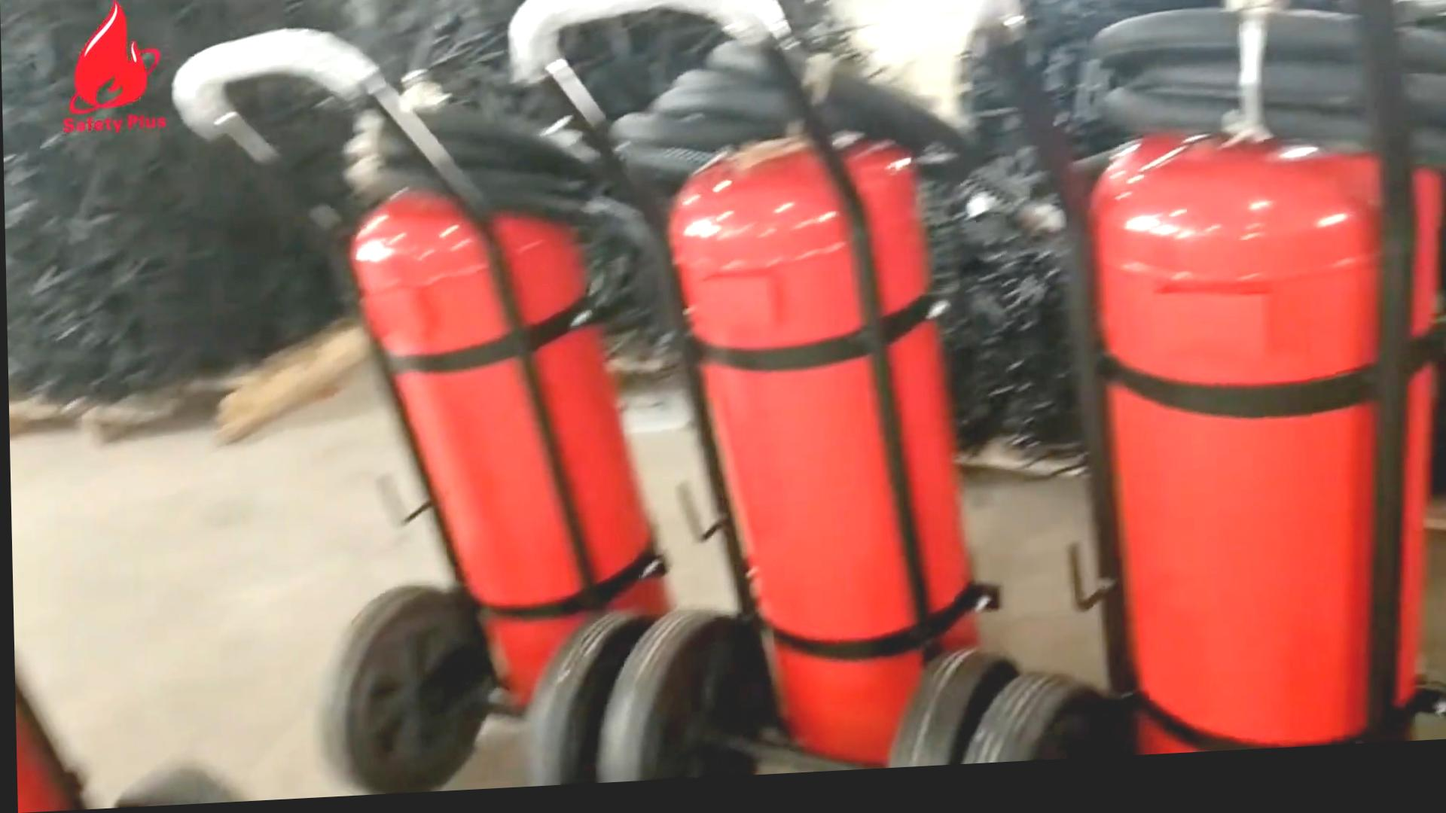FireExtinguisher: (1050, 114, 1446, 770), (651, 116, 1011, 787), (301, 160, 678, 729)
